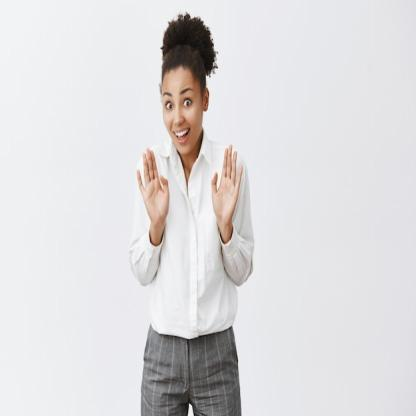stop: (210, 142, 246, 228), (134, 145, 172, 226)
